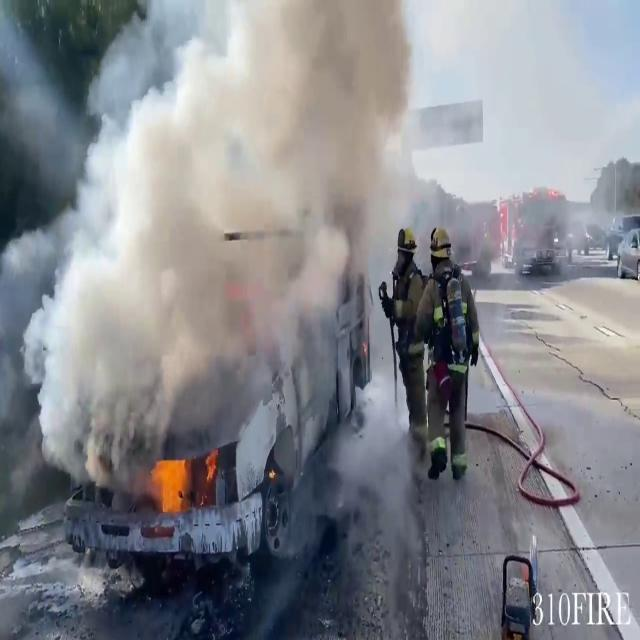Fire: (146, 445, 194, 515)
Smoke: (8, 0, 420, 482)
